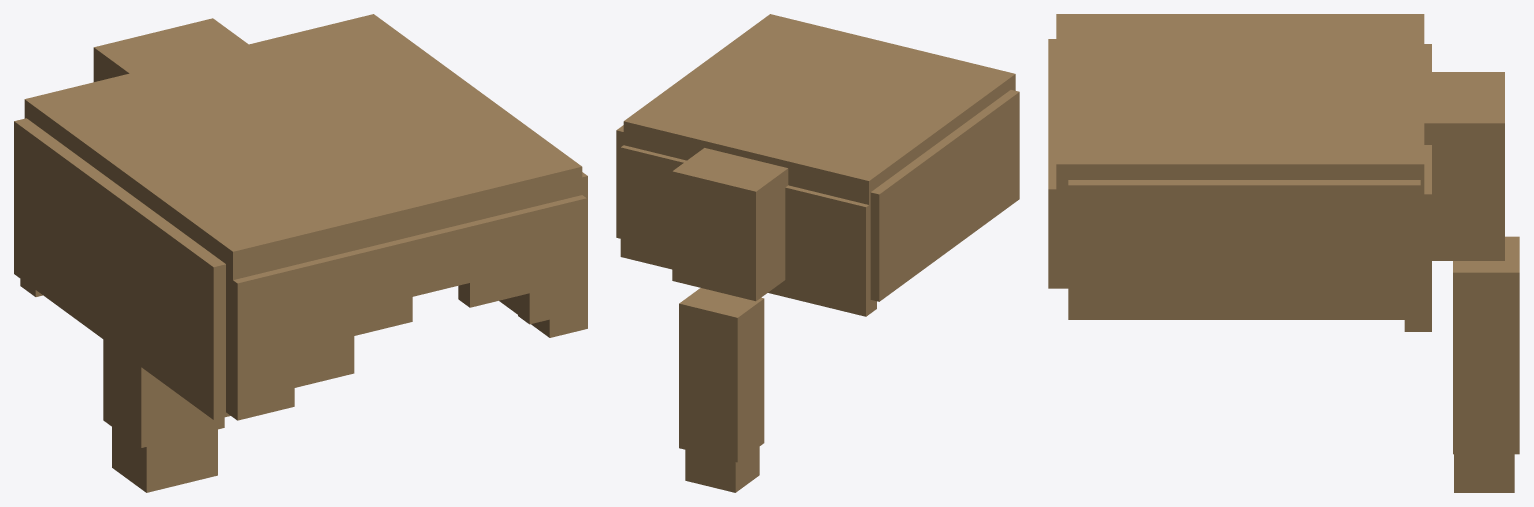
Rendered from hair_ponytail.glb.
3 renders of one model, left to right at view 1: azimuth 30°, elevation 25°; view 2: azimuth 150°, elevation 25°; view 3: azimuth 270°, elevation 25°, orthographic. The views are drawn at different scales.
Parts seen in each view (by area): view 1: char_hair_visual; view 2: char_hair_visual; view 3: char_hair_visual.
Part boxes in pixels (left/top/right/bottom): char_hair_visual: left=14, top=14, right=587, bottom=492; char_hair_visual: left=616, top=14, right=1019, bottom=492; char_hair_visual: left=1048, top=14, right=1519, bottom=492.
Bounding box in the file's own units: 0.628 × 0.7055 × 0.776.
